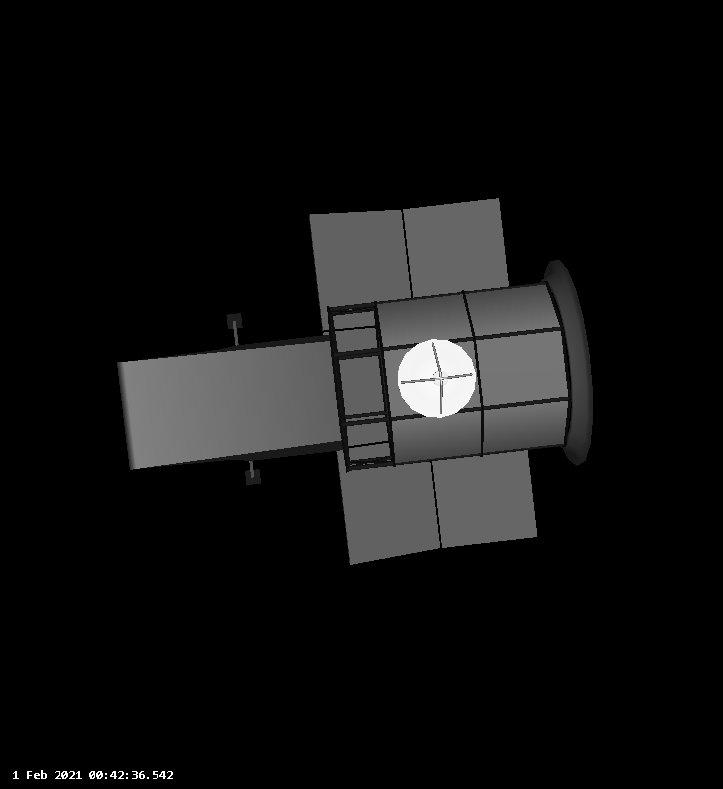antenna: (397, 337, 479, 421)
body: (114, 255, 597, 478)
solar: (307, 195, 515, 338), (335, 447, 540, 570)
